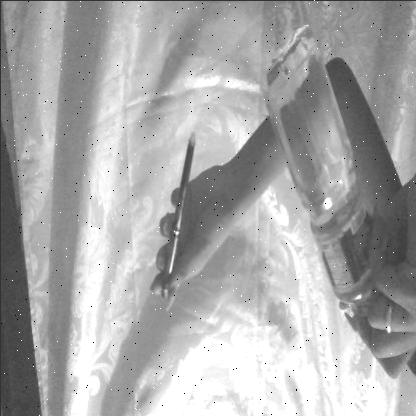Plastic Bottle: (251, 13, 392, 366)
